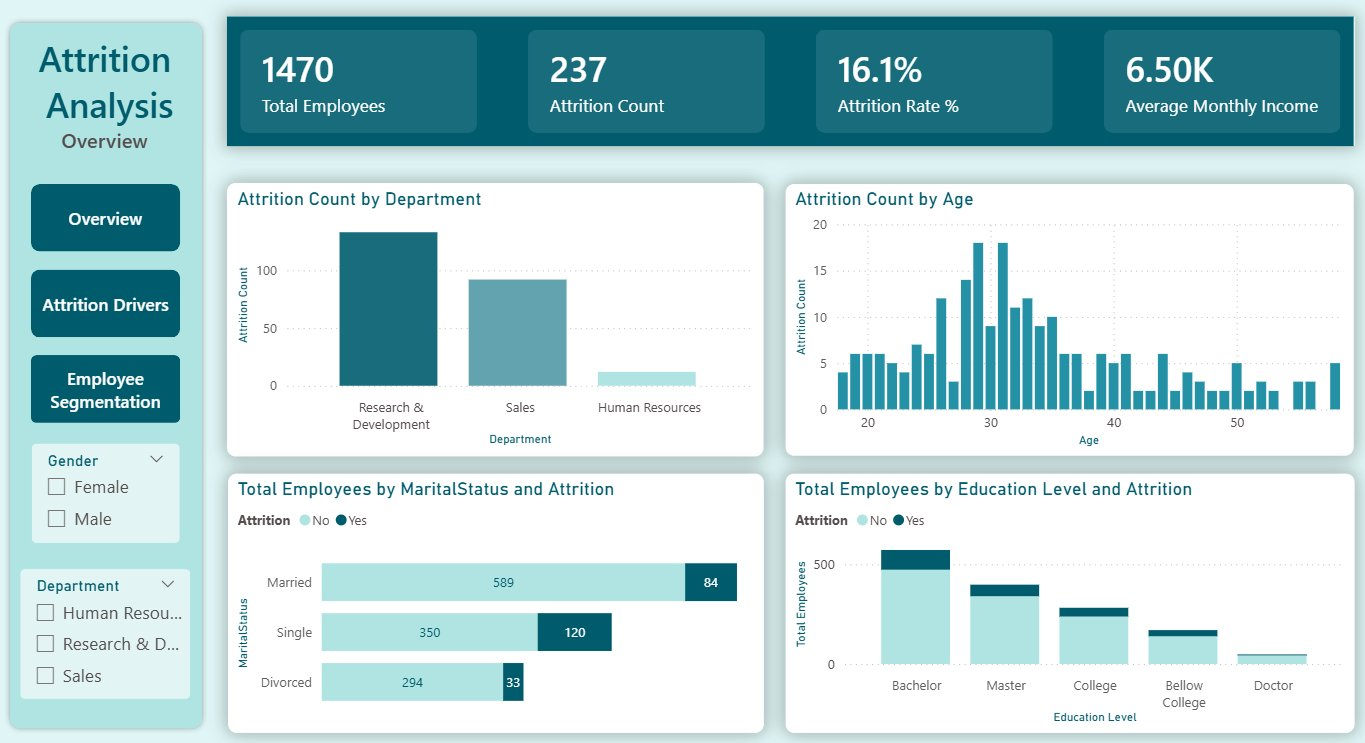

The page's visual inventory and layout, read from the dashboard file:
{"tool":"powerbi","page":{"name":"Overview","canvas":[1280,720],"ordinal":0},"visuals":[{"type":"shape","box":[19.6,34.4,186.5,658.9],"z":0},{"type":"cardVisual","fields":{"Data":["All measures.Total Employees","All measures.Attrition Count","All measures.Attrition Rate %","All measures.Average Monthly Income"]},"box":[224.5,33.1,1038,119],"z":1000},{"type":"clusteredColumnChart","fields":{"Category":["HR Analytics Data.Department"],"Y":["All measures.Attrition Count"]},"box":[224.3,187.1,494.3,251.4],"z":2000},{"type":"clusteredColumnChart","fields":{"Category":["HR Analytics Data.Age"],"Y":["All measures.Attrition Count"]},"box":[738.8,187.5,522.5,250],"z":3000},{"type":"textbox","box":[18.8,45,186.2,142.5],"z":4000},{"type":"barChart","fields":{"Series":["HR Analytics Data.Attrition"],"Category":["HR Analytics Data.MaritalStatus"],"Y":["All measures.Total Employees"]},"box":[225.7,454.3,492.9,238.6],"z":5000},{"type":"columnChart","fields":{"Series":["HR Analytics Data.Attrition"],"Y":["All measures.Total Employees"],"Category":["HR Analytics Data.Education Level"]},"box":[738.8,453.8,523.8,238.8],"z":6000},{"type":"actionButton","box":[44.2,266.3,137.4,62.6],"z":7000},{"type":"actionButton","box":[44.2,344.8,137.4,62.6],"z":8000},{"type":"actionButton","box":[44.2,187.7,137.4,62],"z":9000},{"type":"slicer","fields":{"Values":["HR Analytics Data.Gender"]},"box":[44.2,425.8,137.4,93.3],"z":10000},{"type":"slicer","fields":{"Values":["HR Analytics Data.Department"]},"box":[33.1,541.1,158.3,121.5],"z":11000}]}

Visuals, with their boxes on the page's 1280x720 design canvas (x1, y1, x2, y2). These are canvas units, not pixel positions in the 1365x743 screenshot, which may show the page scaled, cropped or inside an application window:
shape: x1=20, y1=34, x2=206, y2=693
cardVisual - All measures.Total Employees x All measures.Attrition Count: x1=224, y1=33, x2=1262, y2=152
clusteredColumnChart - HR Analytics Data.Department x All measures.Attrition Count: x1=224, y1=187, x2=719, y2=438
clusteredColumnChart - HR Analytics Data.Age x All measures.Attrition Count: x1=739, y1=188, x2=1261, y2=438
textbox: x1=19, y1=45, x2=205, y2=188
barChart - HR Analytics Data.Attrition x HR Analytics Data.MaritalStatus: x1=226, y1=454, x2=719, y2=693
columnChart - HR Analytics Data.Attrition x All measures.Total Employees: x1=739, y1=454, x2=1263, y2=693
actionButton: x1=44, y1=266, x2=182, y2=329
actionButton: x1=44, y1=345, x2=182, y2=407
actionButton: x1=44, y1=188, x2=182, y2=250
slicer - HR Analytics Data.Gender: x1=44, y1=426, x2=182, y2=519
slicer - HR Analytics Data.Department: x1=33, y1=541, x2=191, y2=663
